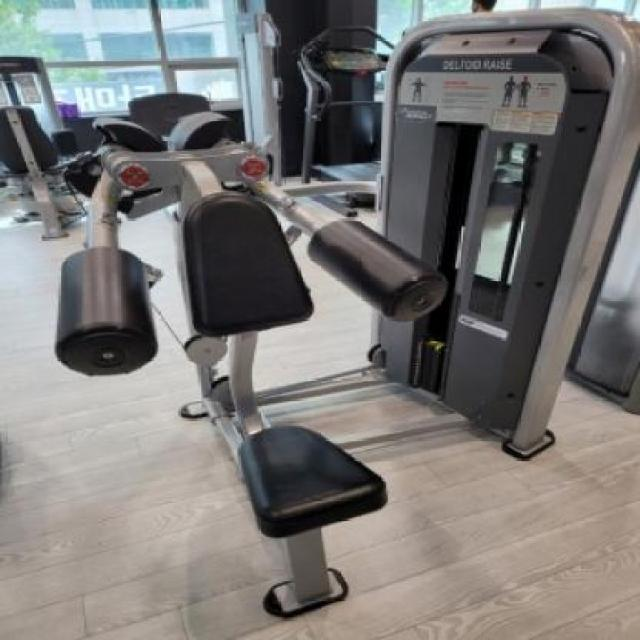lateral raises machine: (56, 114, 456, 621)
